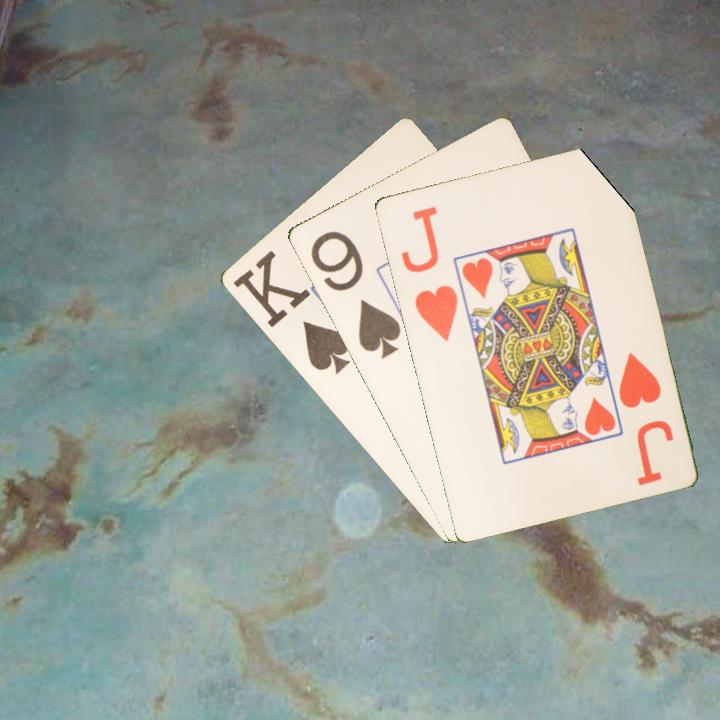9s: (306, 227, 404, 362)
Jh: (397, 202, 461, 345), (614, 348, 664, 411)
Ks: (229, 247, 353, 378)
